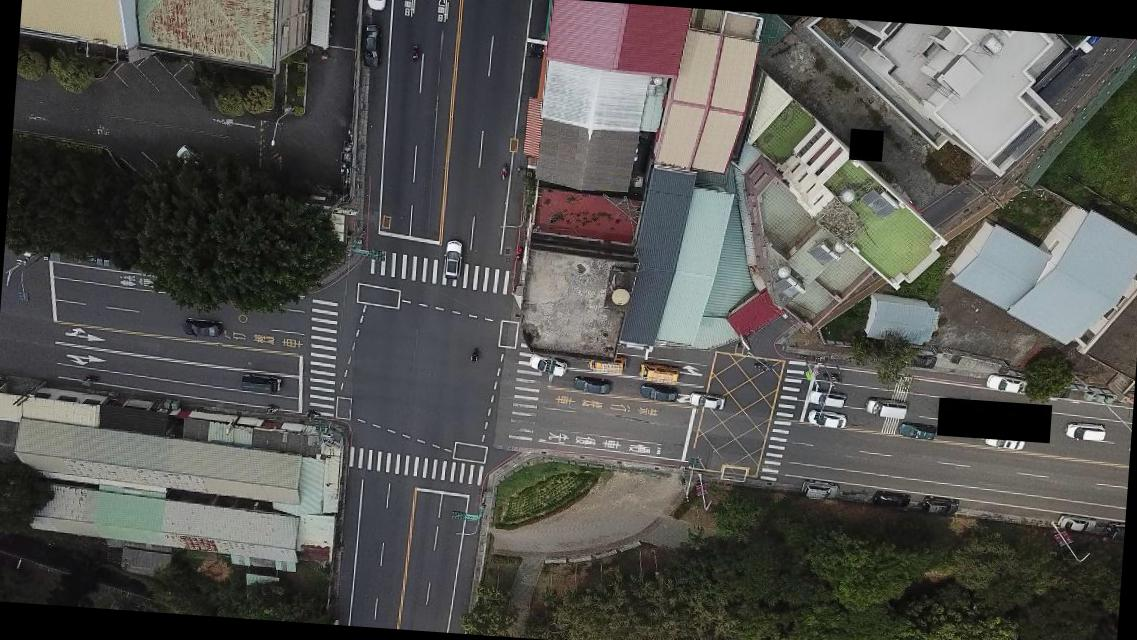vehicle: (984, 372, 1029, 398), (362, 21, 385, 70), (528, 352, 571, 378), (239, 371, 282, 396), (863, 397, 907, 421), (637, 360, 680, 384), (920, 493, 960, 517), (802, 478, 842, 502), (637, 382, 680, 404), (180, 316, 223, 338), (898, 419, 938, 442), (807, 408, 847, 431), (571, 374, 612, 396), (1063, 422, 1107, 442), (586, 356, 630, 376), (442, 240, 464, 280), (984, 434, 1027, 454), (873, 488, 912, 510), (1056, 512, 1098, 532), (807, 388, 846, 408), (688, 392, 724, 413)
